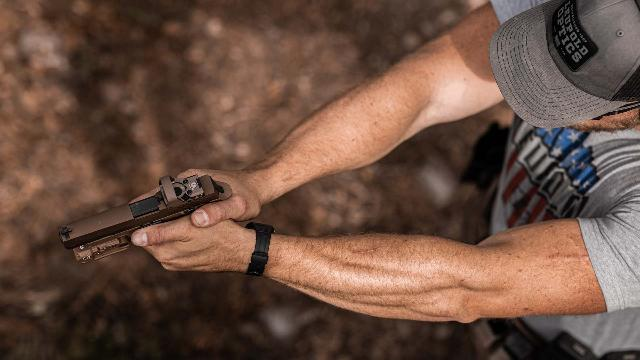handgun: (54, 170, 236, 268)
